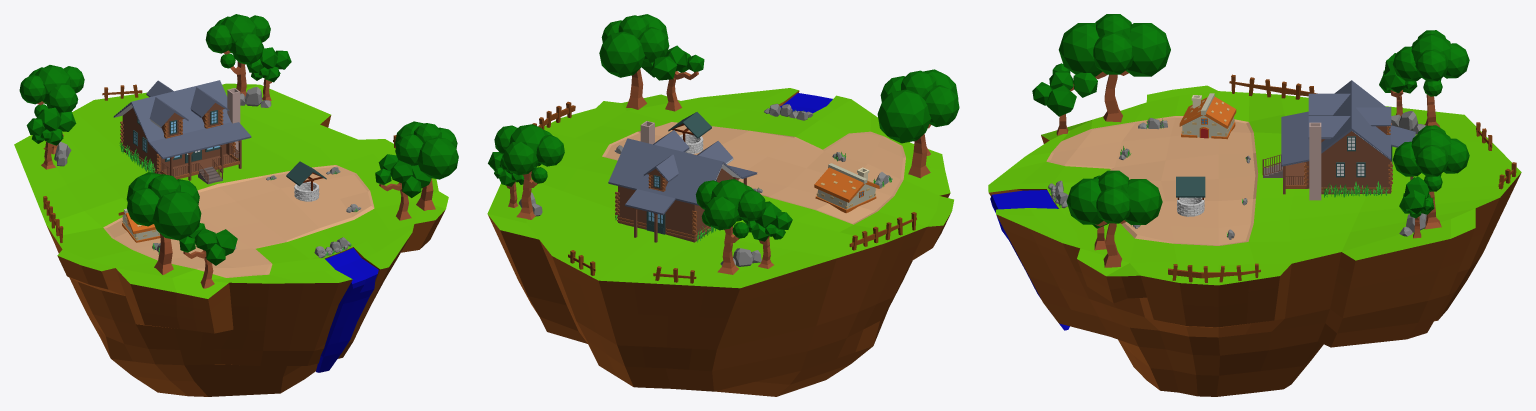
File: ilha.gltf
The picture shows the model from 3 angles, left to right: view 1: azimuth 30°, elevation 25°; view 2: azimuth 150°, elevation 25°; view 3: azimuth 270°, elevation 25°; orthographic projection. The views are drawn at different scales.
Parts seen in each view (by area): view 1: ilha, arvore1, casa, arvore2, Cube, poço, casa2, Cube.001, chamine; view 2: ilha, arvore1, casa, arvore2, casa2, Cube.001, Cube, poço; view 3: ilha, arvore1, casa, arvore2, Cube.001, casa2, Cube, poço, chamine.
Boxes of the visible parts, x1=… form: ilha: x1=14, y1=83, x2=448, y2=396; arvore1: x1=126, y1=121, x2=458, y2=288; casa: x1=113, y1=80, x2=251, y2=182; arvore2: x1=19, y1=14, x2=291, y2=169; Cube: x1=54, y1=87, x2=361, y2=257; poço: x1=286, y1=161, x2=326, y2=201; casa2: x1=118, y1=208, x2=160, y2=242; Cube.001: x1=43, y1=84, x2=396, y2=242; chamine: x1=227, y1=88, x2=240, y2=157; ilha: x1=487, y1=88, x2=953, y2=396; arvore1: x1=599, y1=14, x2=959, y2=178; casa: x1=608, y1=130, x2=757, y2=242; arvore2: x1=488, y1=124, x2=792, y2=274; casa2: x1=814, y1=163, x2=879, y2=213; Cube.001: x1=532, y1=101, x2=916, y2=283; Cube: x1=518, y1=103, x2=892, y2=266; poço: x1=668, y1=112, x2=711, y2=153; ilha: x1=988, y1=85, x2=1521, y2=396; arvore1: x1=1032, y1=14, x2=1170, y2=267; casa: x1=1262, y1=80, x2=1415, y2=194; arvore2: x1=1379, y1=30, x2=1469, y2=238; Cube.001: x1=1168, y1=74, x2=1516, y2=282; casa2: x1=1179, y1=93, x2=1236, y2=139; Cube: x1=1048, y1=111, x2=1426, y2=239; poço: x1=1176, y1=176, x2=1205, y2=216; chamine: x1=1309, y1=122, x2=1321, y2=200.
Bounding box in the file's own units: 19.11 × 13.42 × 21.38.
